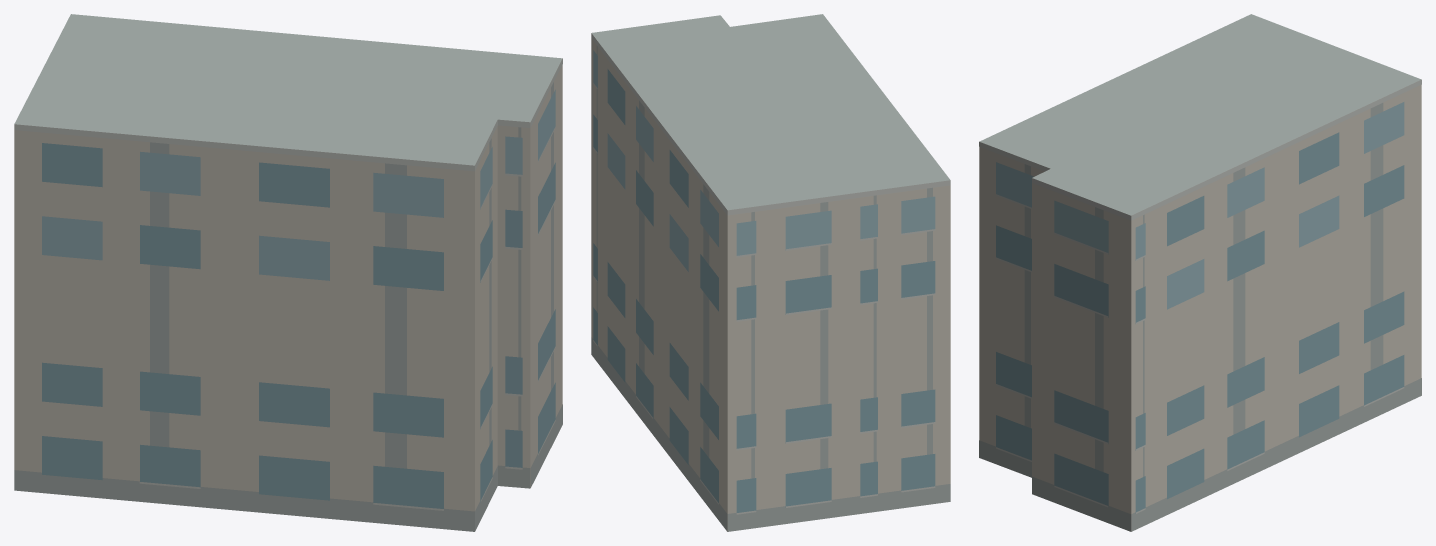
The model's file is survey-upis-32631739.glb.
3 views of the same model, side by side, from view 1: azimuth 30°, elevation 25°; view 2: azimuth 150°, elevation 25°; view 3: azimuth 270°, elevation 25° (orthographic). The views are drawn at different scales.
Parts seen in each view (by area): view 1: survey-upis-32631739.tmp; view 2: survey-upis-32631739.tmp; view 3: survey-upis-32631739.tmp.
Boxes of the visible parts, x1=… form: survey-upis-32631739.tmp: x1=14, y1=14, x2=562, y2=531; survey-upis-32631739.tmp: x1=591, y1=14, x2=950, y2=531; survey-upis-32631739.tmp: x1=979, y1=14, x2=1421, y2=531.
Size of the model in its own units: 20.87 by 15.25 by 19.35.
